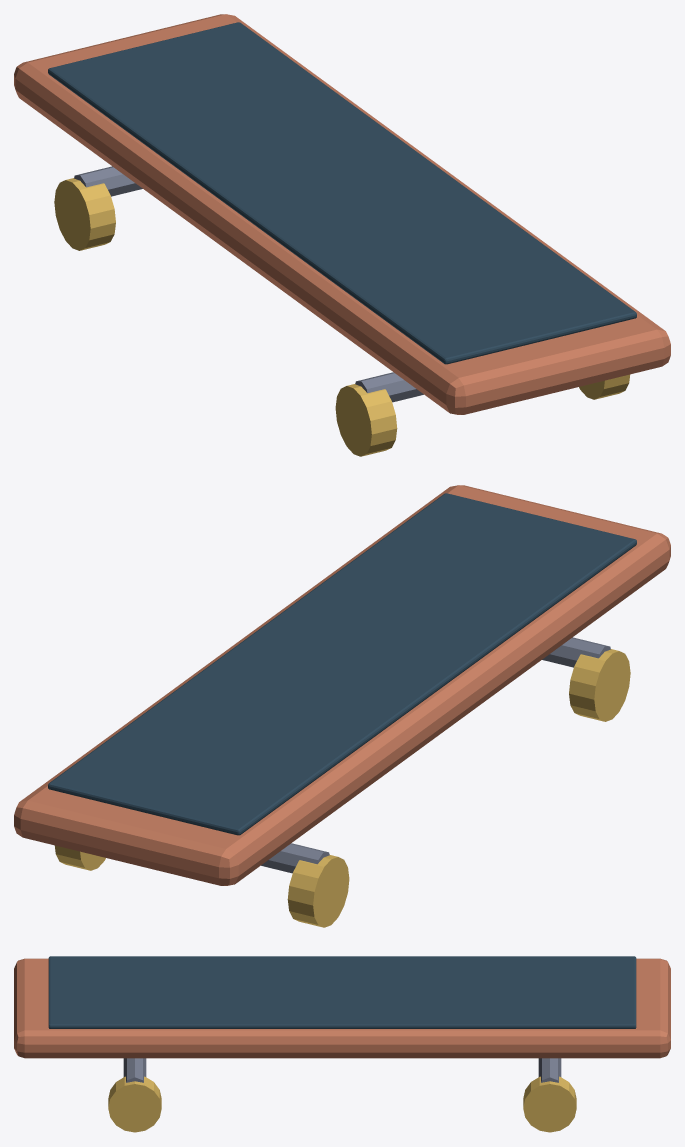
The model's file is skateboard.glb.
The picture shows the model from 3 angles, top to bottom: view 1: azimuth 30°, elevation 25°; view 2: azimuth 150°, elevation 25°; view 3: azimuth 270°, elevation 25°; orthographic projection. The views are drawn at different scales.
Visible parts, largest first — view 1: skateboard_Mesh; view 2: skateboard_Mesh; view 3: skateboard_Mesh.
Part boxes in pixels (bbox=[...]): skateboard_Mesh: bbox=[14, 14, 670, 456]; skateboard_Mesh: bbox=[14, 485, 670, 927]; skateboard_Mesh: bbox=[14, 956, 670, 1132].
Size of the model in its own units: 0.255 by 0.122 by 0.76.
